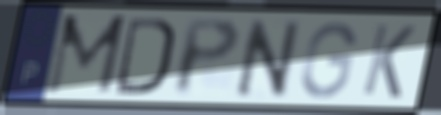D: (113, 14, 177, 97)
G: (298, 19, 359, 101)
K: (358, 21, 418, 102)
M: (43, 12, 130, 97)
N: (234, 16, 304, 100)
P: (171, 16, 243, 99)
